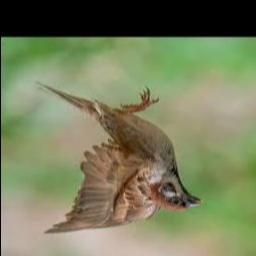Sparrow: (34, 83, 205, 234)
